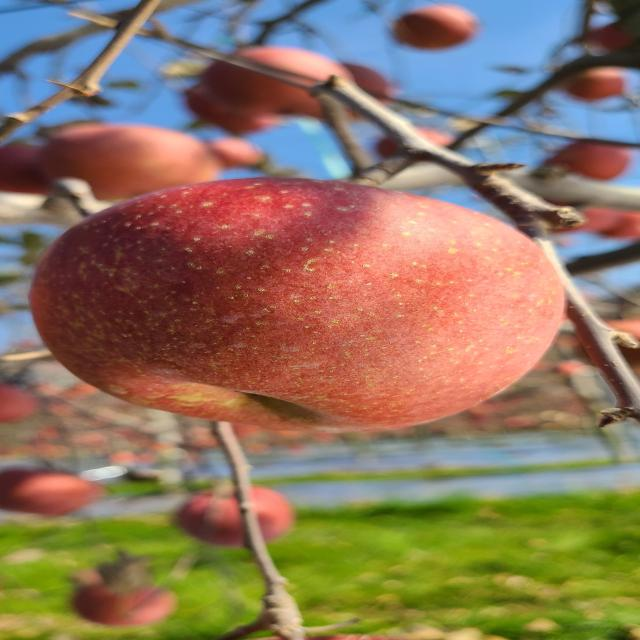fresh: (20, 171, 592, 439)
